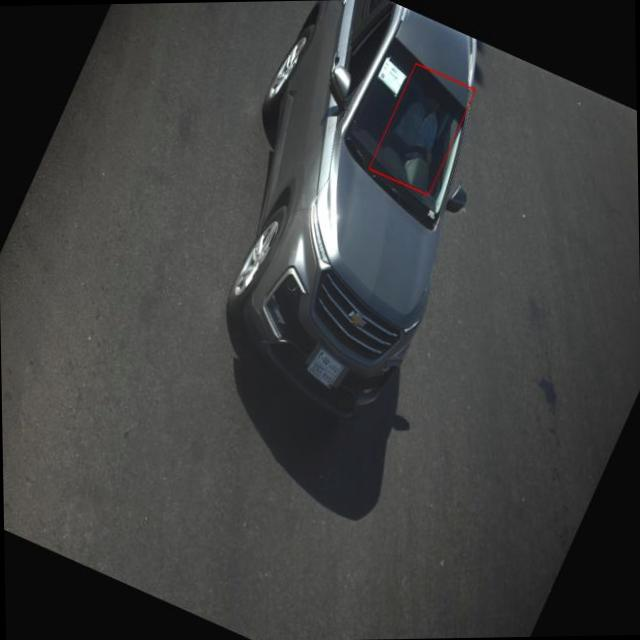person_without_seatbelt: (377, 86, 464, 182)
